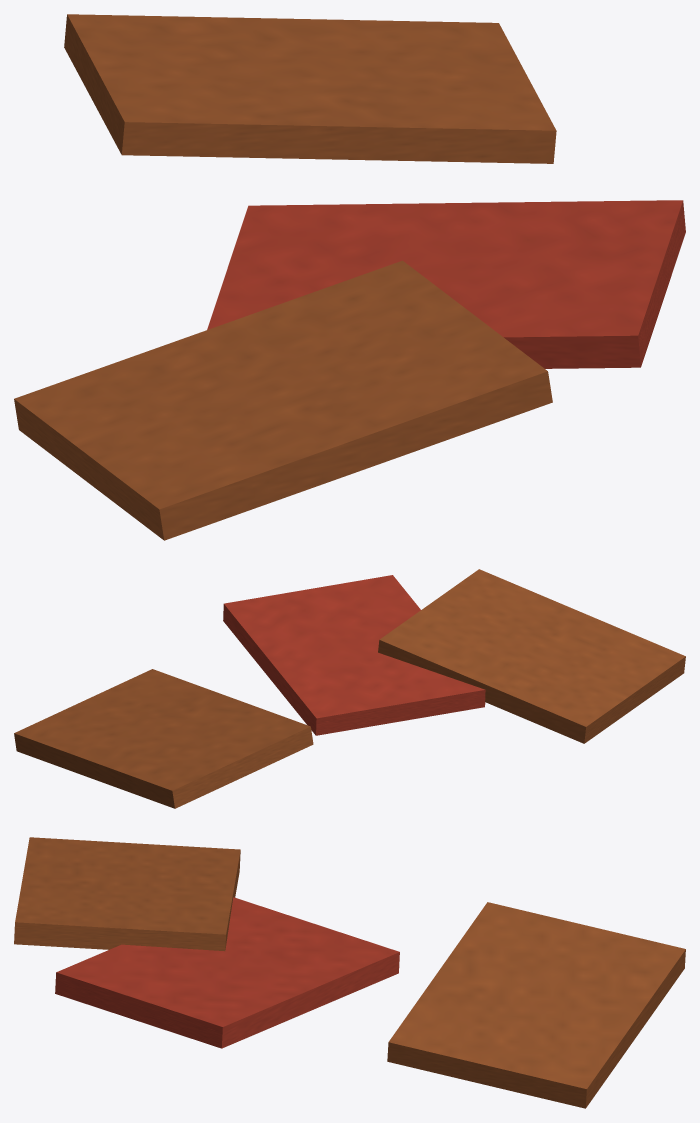
File: Deco_Feuilles_B.obj
3 views of the same model, one above another, from view 1: azimuth 30°, elevation 25°; view 2: azimuth 150°, elevation 25°; view 3: azimuth 270°, elevation 25° (orthographic). The views are drawn at different scales.
Visible parts, largest first — view 1: Deco_Feuilles_B; view 2: Deco_Feuilles_B; view 3: Deco_Feuilles_B.
Part boxes in pixels (<box>): Deco_Feuilles_B: <box>14,14,685,540</box>; Deco_Feuilles_B: <box>14,569,685,808</box>; Deco_Feuilles_B: <box>14,837,685,1108</box>.
Size of the model in its own units: 1.5 by 0.1838 by 1.75.
Materials: 1 (1 with a texture image).
